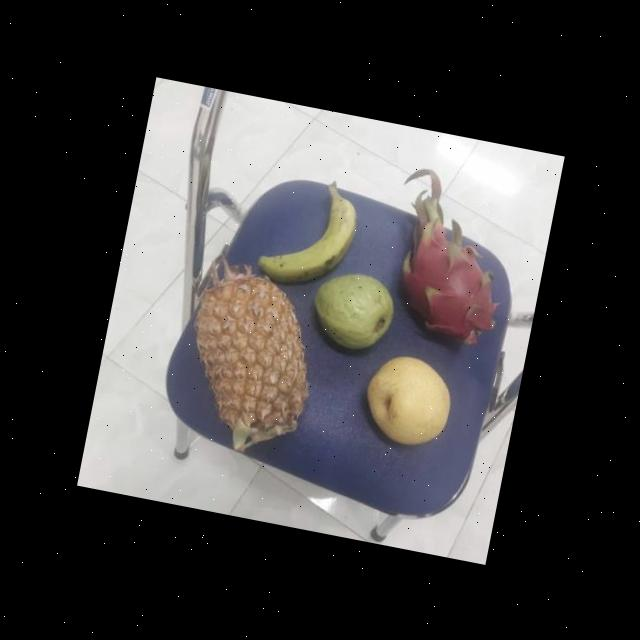banana: (250, 172, 360, 292)
guava: (352, 350, 458, 452), (304, 266, 398, 352)
pineapple: (164, 260, 330, 456)
pitaya: (384, 218, 508, 352)
